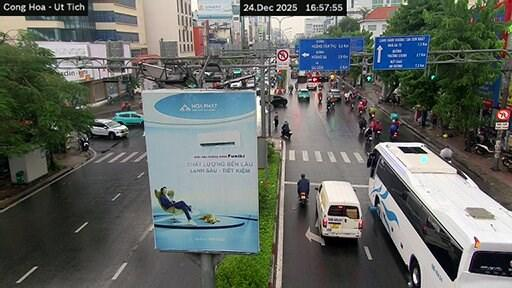motorbike: (474, 139, 494, 154), (78, 134, 89, 151), (501, 150, 511, 166), (299, 192, 308, 207), (364, 127, 372, 142), (281, 129, 292, 139), (326, 100, 334, 112), (121, 102, 131, 110), (390, 131, 397, 141), (374, 130, 381, 139), (107, 96, 112, 104), (318, 92, 322, 102), (350, 103, 354, 110), (139, 99, 142, 108)
